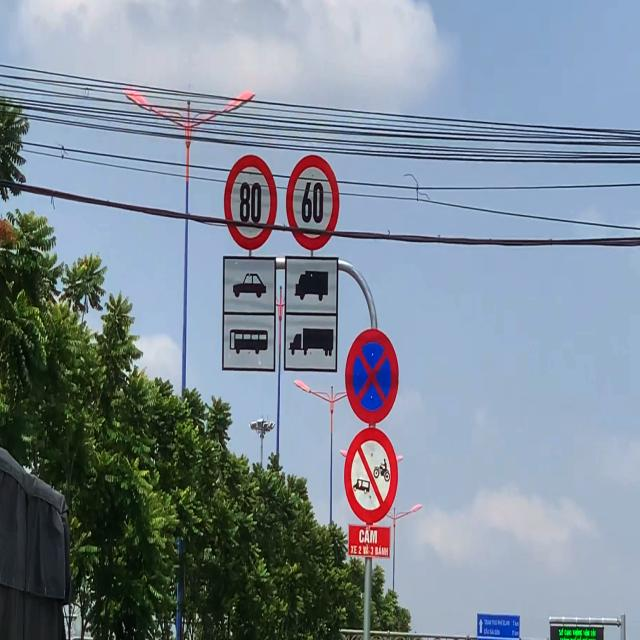Cam con lai: (344, 428, 399, 526)
Cam dung va do: (344, 326, 401, 425)
Toc do toi da: (222, 152, 279, 252), (284, 152, 341, 252)
